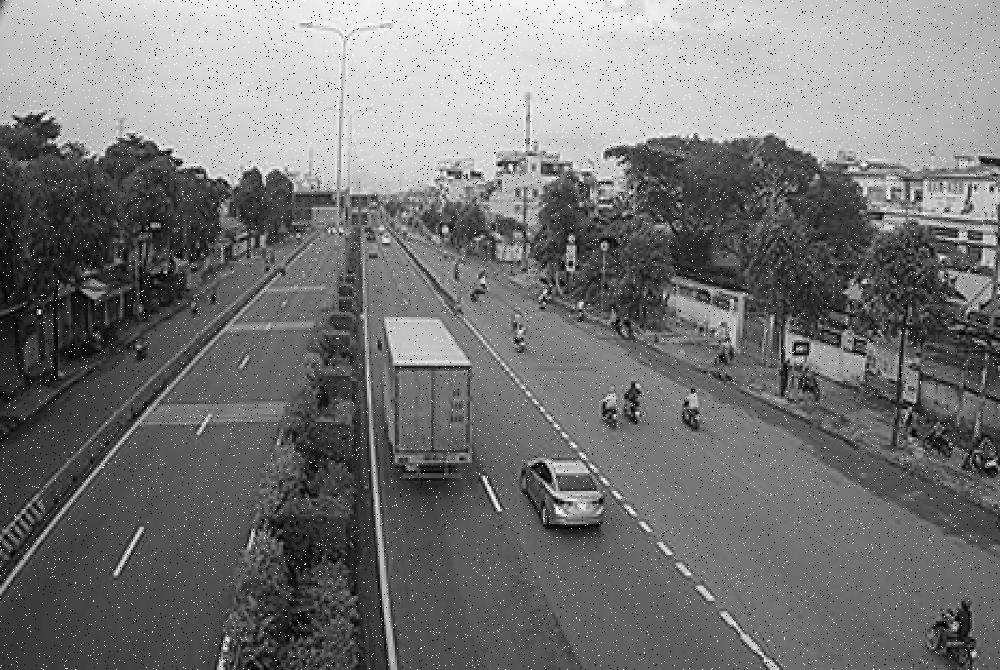car: (522, 459, 608, 532)
motorbike: (682, 402, 703, 431)
truck: (372, 300, 494, 528)
